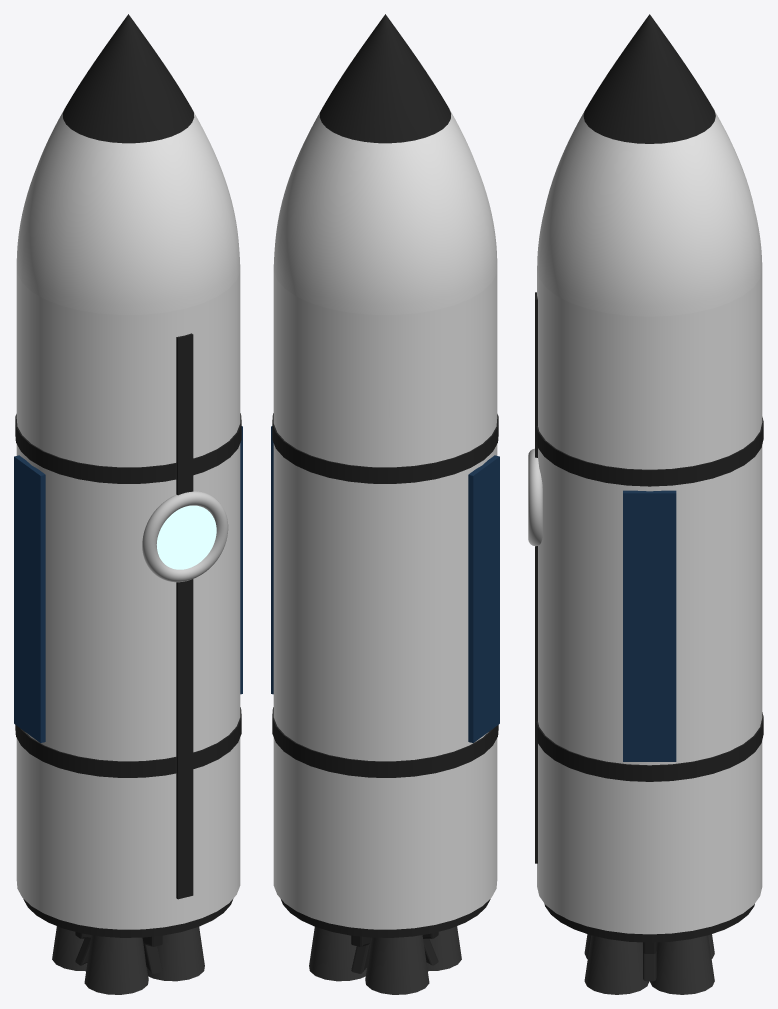
File: rocket.gltf
The picture shows the model from 3 angles, left to right: view 1: azimuth 30°, elevation 25°; view 2: azimuth 150°, elevation 25°; view 3: azimuth 270°, elevation 25°; orthographic projection.
Parts seen in each view (by area): view 1: Body, NoseBase, Rocket, NoseCap, Nozzle_1, Nozzle_0, Nozzle_3; view 2: Body, NoseBase, Rocket, NoseCap, Nozzle_3, Nozzle_2, Nozzle_1; view 3: Body, NoseBase, Rocket, NoseCap, Nozzle_2, Nozzle_0.
Part boxes in pixels (x1,y1,x2,y2): Body: (16, 267, 240, 929); NoseBase: (16, 109, 240, 314); Rocket: (14, 333, 242, 937); NoseCap: (63, 14, 194, 143); Nozzle_1: (84, 935, 148, 994); Nozzle_0: (147, 927, 204, 981); Nozzle_3: (52, 926, 87, 971); Body: (273, 267, 497, 929); NoseBase: (273, 109, 497, 314); Rocket: (271, 413, 499, 937); NoseCap: (319, 14, 450, 143); Nozzle_3: (365, 935, 429, 994); Nozzle_2: (309, 927, 366, 981); Nozzle_1: (426, 926, 461, 971); Body: (537, 269, 762, 934); NoseBase: (537, 111, 762, 316); Rocket: (528, 292, 763, 942); NoseCap: (583, 14, 715, 143); Nozzle_2: (650, 935, 714, 994); Nozzle_0: (584, 935, 649, 994).
Size of the model in its own units: 0.792 by 3.55 by 0.795.
